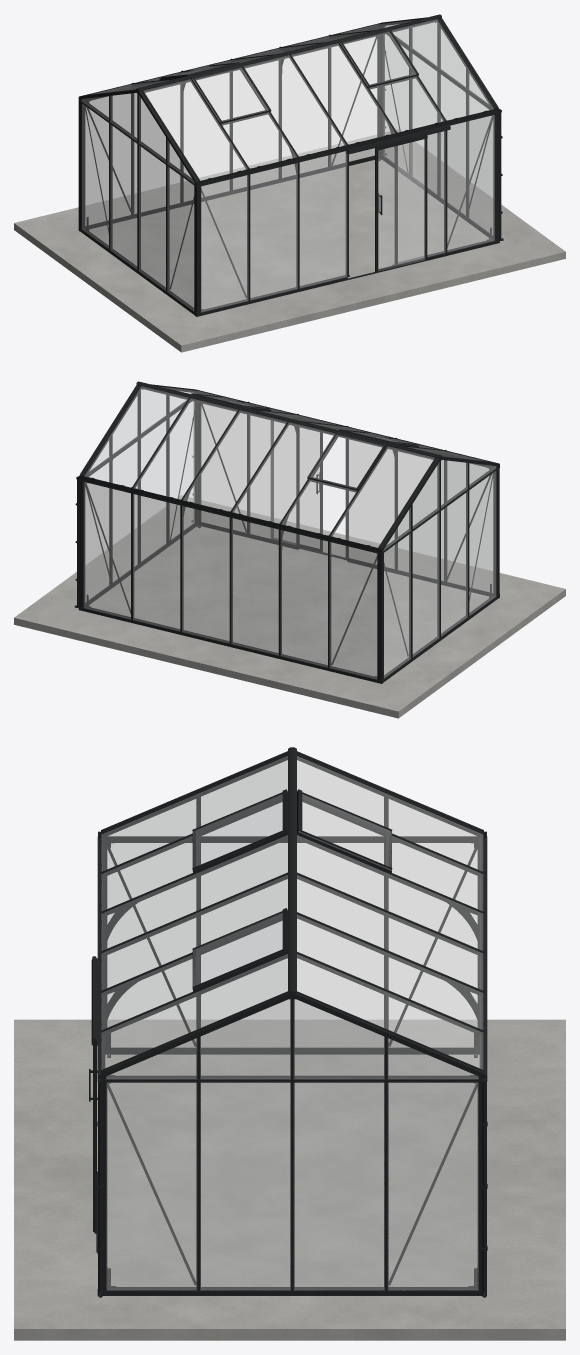
The model's file is scandiglas-classic-sv.glb.
The picture shows the model from 3 angles, top to bottom: view 1: azimuth 30°, elevation 25°; view 2: azimuth 150°, elevation 25°; view 3: azimuth 270°, elevation 25°; orthographic projection. The views are drawn at different scales.
Visible parts, largest first — view 1: scandiglas-classic; view 2: scandiglas-classic; view 3: scandiglas-classic.
Part boxes in pixels (x1,y1,x2,y2): scandiglas-classic: (14, 14, 565, 352); scandiglas-classic: (14, 381, 565, 718); scandiglas-classic: (14, 747, 565, 1340).
Bounding box in the file's own units: 5.83 × 2.78 × 4.4.
4 materials, 1 textured.
